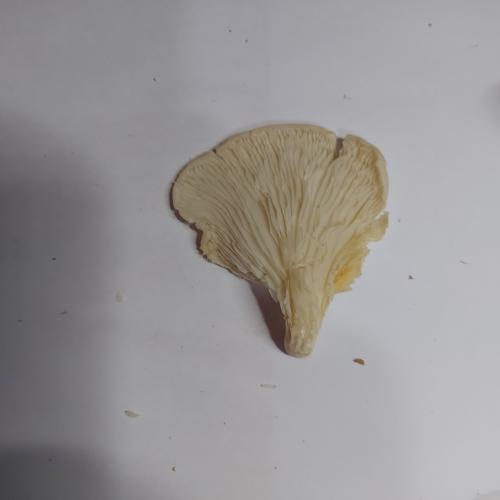Oyster Mushroom: (169, 122, 390, 358)
